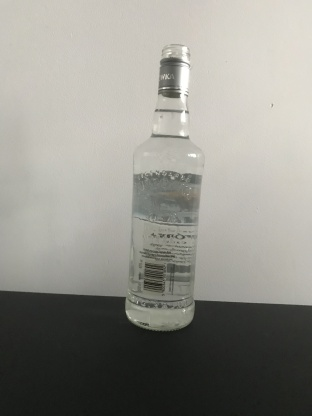nakretka: (155, 40, 192, 99)
